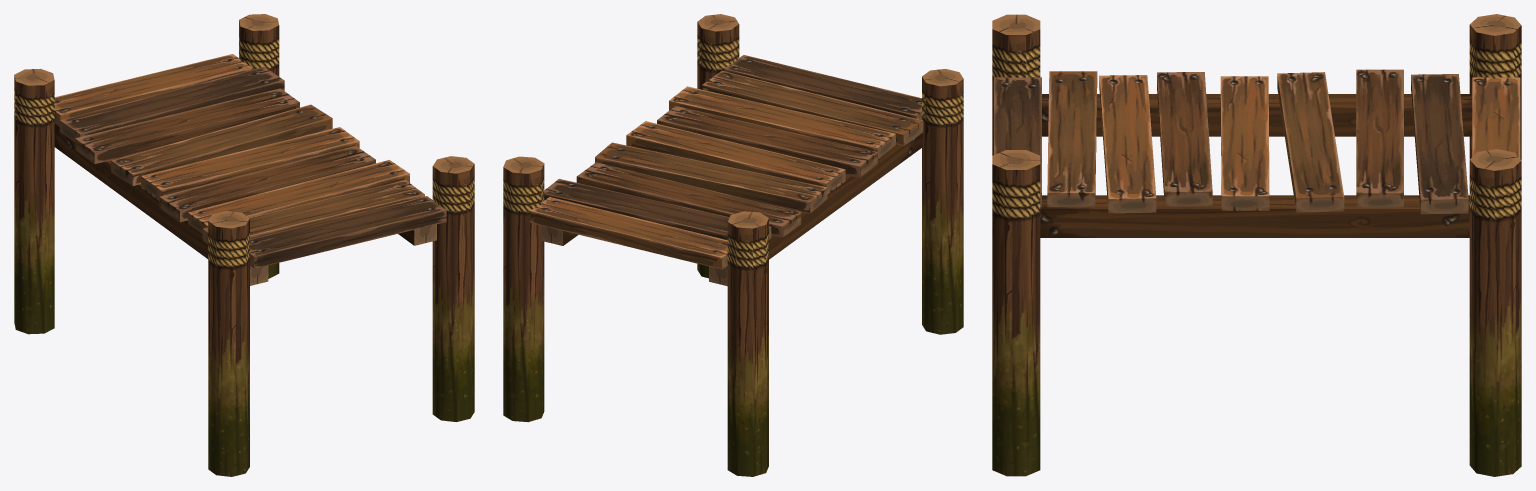
3 renders of one model, left to right at view 1: azimuth 30°, elevation 25°; view 2: azimuth 150°, elevation 25°; view 3: azimuth 270°, elevation 25°, orthographic. The views are drawn at different scales.
Parts seen in each view (by area): view 1: pier_end_A; view 2: pier_end_A; view 3: pier_end_A.
Boxes of the visible parts, <box> form: pier_end_A: <box>14,14,474,476</box>; pier_end_A: <box>503,14,963,476</box>; pier_end_A: <box>992,14,1521,476</box>.
Bounding box in the file's own units: 2.32 × 2.11 × 3.31.
1 material, 1 textured.
